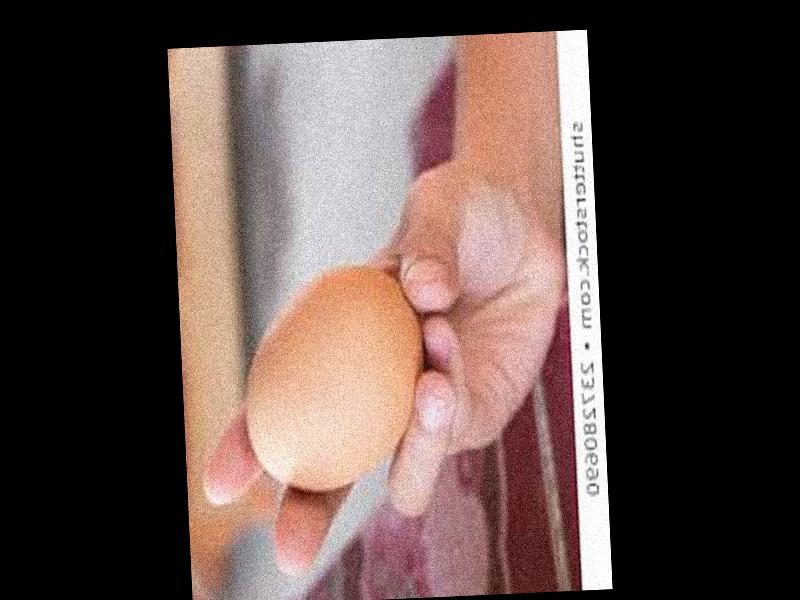Eggs: (241, 266, 427, 496)
